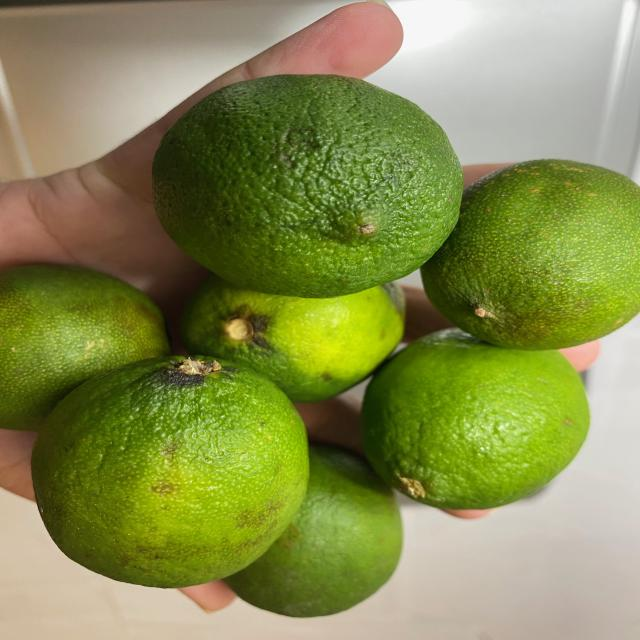lemon: (4, 78, 637, 620)
